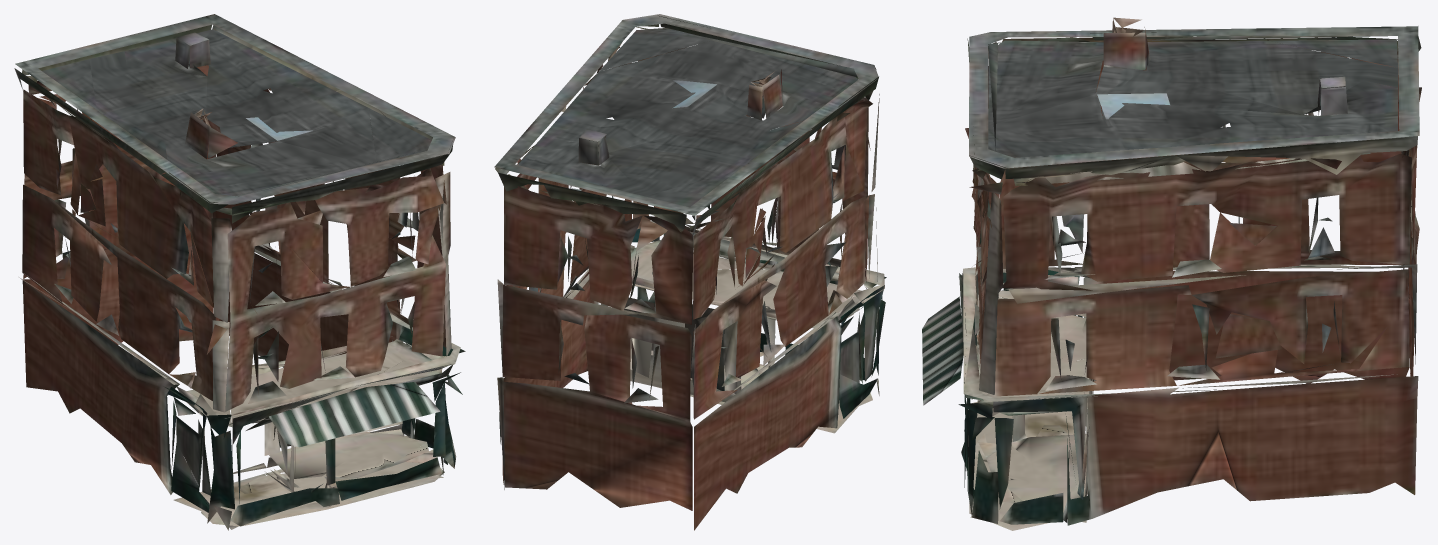
Rendered from stadt_eckladen_lo.glb.
The picture shows the model from 3 angles, left to right: view 1: azimuth 30°, elevation 25°; view 2: azimuth 150°, elevation 25°; view 3: azimuth 270°, elevation 25°; orthographic projection. The views are drawn at different scales.
Parts seen in each view (by area): view 1: Prop; view 2: Prop; view 3: Prop.
Part boxes in pixels (x1,y1,x2,y2): Prop: (14,14,465,530); Prop: (494,14,886,530); Prop: (922,17,1421,530).
Bounding box in the file's own units: 0.7507 × 0.9956 × 1.09.
1 material, 1 textured.
